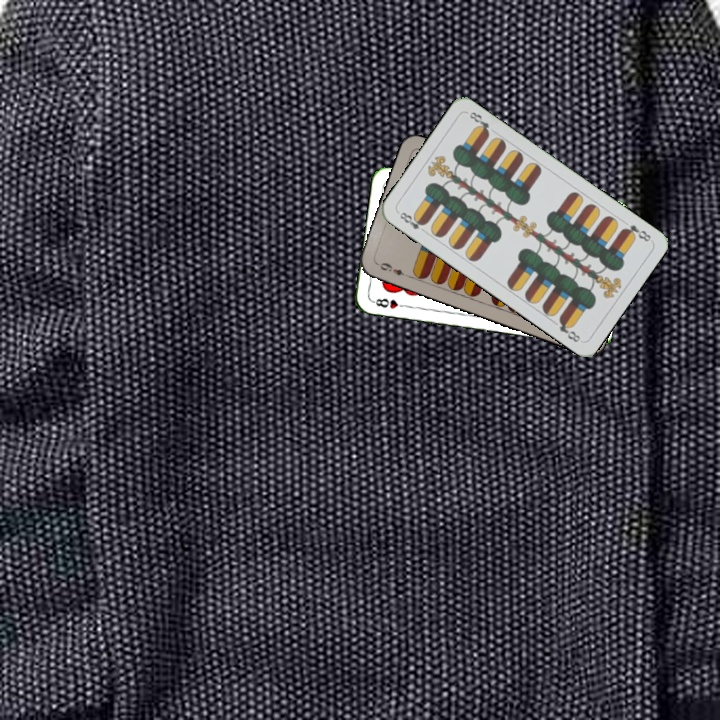E8: (394, 208, 429, 236), (618, 221, 654, 244)
E9: (373, 258, 412, 280)
H8: (369, 294, 409, 311)
